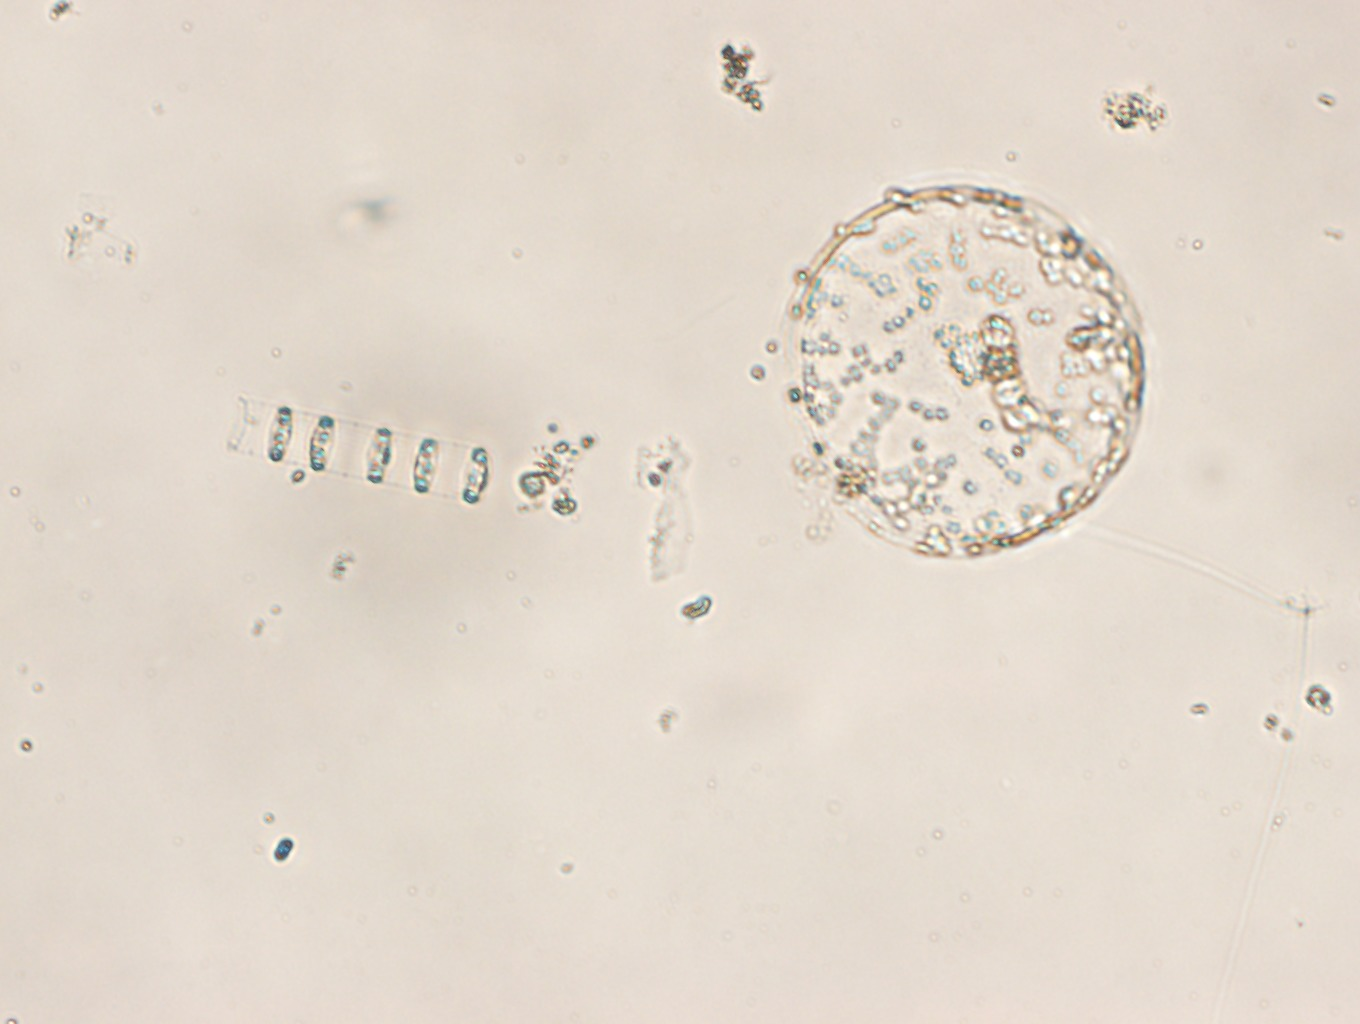coscinodiscus: (776, 177, 1148, 557)
skeletonema: (231, 397, 493, 507)
